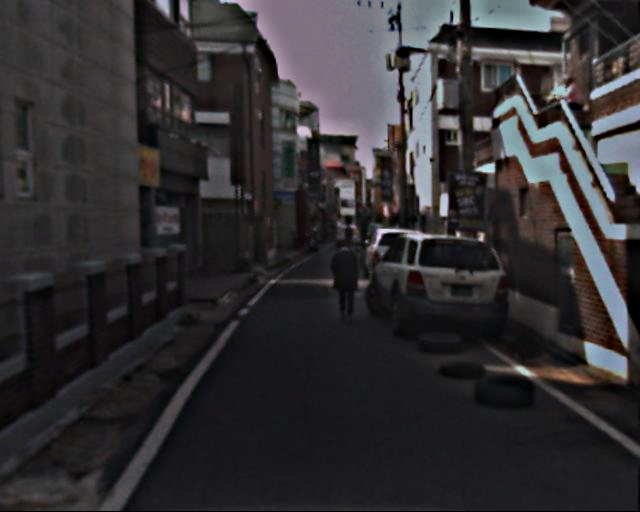person: (328, 237, 365, 327)
